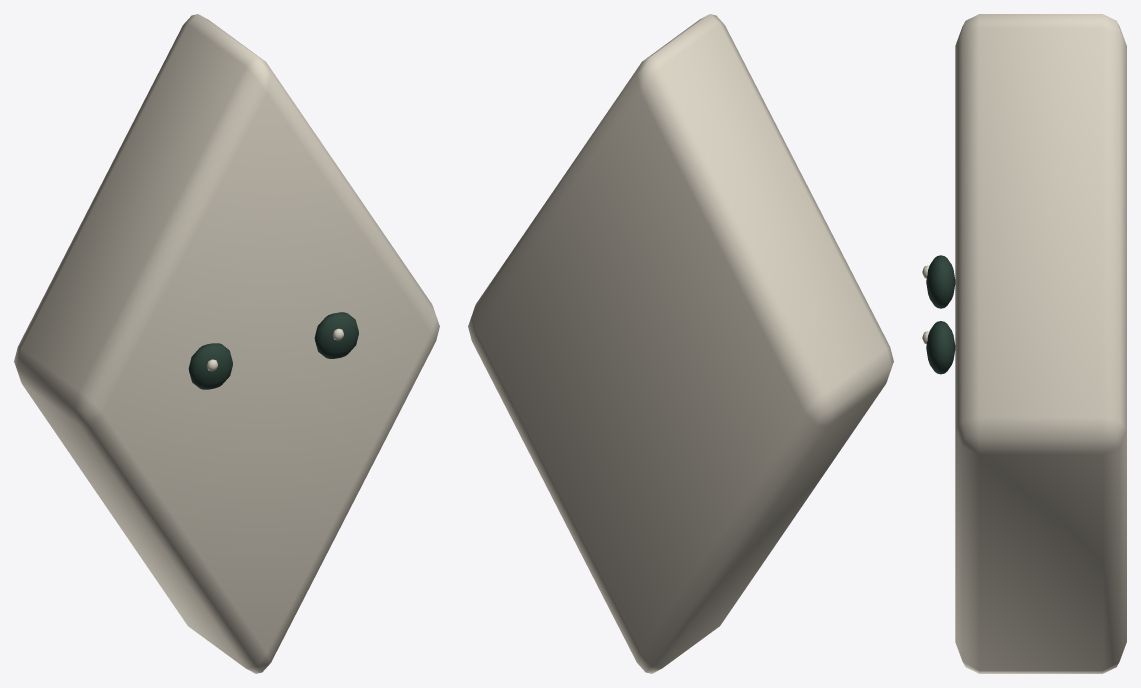
File: shape_rhombus.glb
3 views of the same model, side by side, from view 1: azimuth 30°, elevation 25°; view 2: azimuth 150°, elevation 25°; view 3: azimuth 270°, elevation 25° (orthographic). The views are drawn at different scales.
Visible parts, largest first — view 1: color_body, body; view 2: color_body; view 3: color_body, body.
Boxes of the visible parts, box(x1,y1,x2,y2) form: color_body: box(14, 14, 439, 673); body: box(188, 312, 358, 389); color_body: box(468, 14, 893, 673); color_body: box(955, 14, 1126, 673); body: box(922, 255, 955, 374).
Bounding box in the file's own units: 0.8348 × 1.36 × 0.382.
